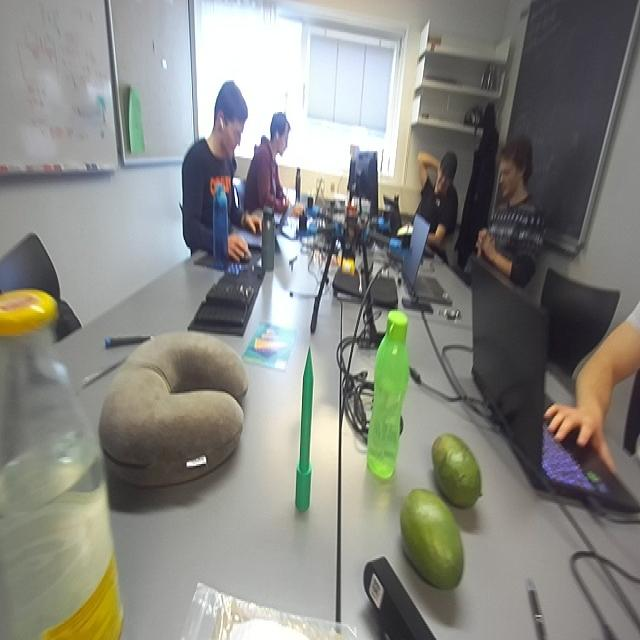probe: (295, 347, 313, 510)
